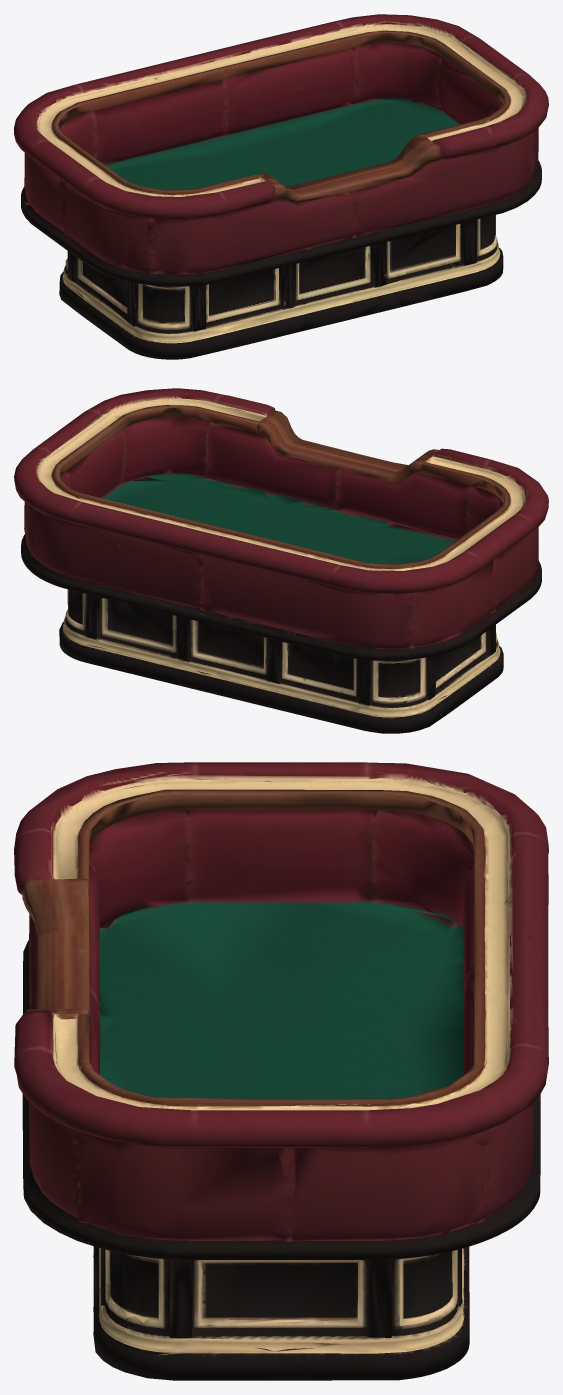
File: diceTable.glb
3 renders of one model, top to bottom at view 1: azimuth 30°, elevation 25°; view 2: azimuth 150°, elevation 25°; view 3: azimuth 270°, elevation 25°, orthographic. The views are drawn at different scales.
Parts seen in each view (by area): view 1: Mesh_0; view 2: Mesh_0; view 3: Mesh_0.
Boxes of the visible parts, bbox=[...] form: Mesh_0: bbox=[14, 14, 548, 359]; Mesh_0: bbox=[14, 388, 548, 733]; Mesh_0: bbox=[14, 762, 548, 1380].
Bounding box in the file's own units: 2.71 × 1 × 1.66.
1 material, 1 textured.
